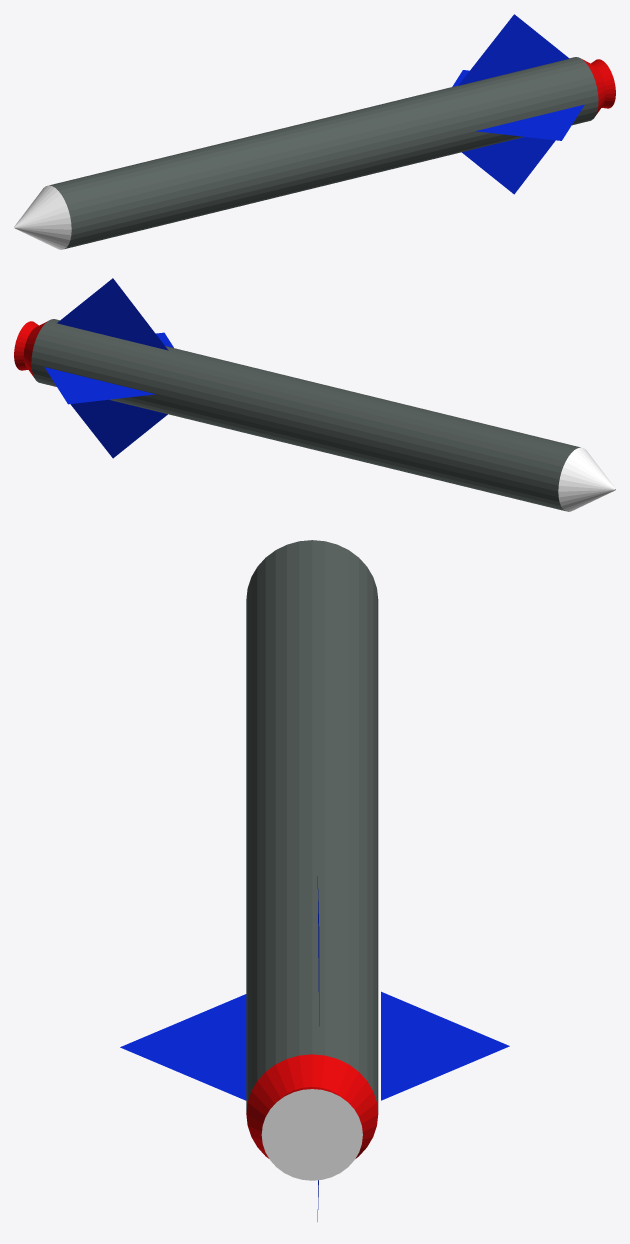
The model's file is missile.fbx.
The picture shows the model from 3 angles, top to bottom: view 1: azimuth 30°, elevation 25°; view 2: azimuth 150°, elevation 25°; view 3: azimuth 270°, elevation 25°; orthographic projection. The views are drawn at different scales.
Parts seen in each view (by area): view 1: Cylinder, Plane.002, Plane.003, Plane.001; view 2: Cylinder, Plane.002, Plane.003, Plane; view 3: Cylinder, Plane, Plane.001.
Part boxes in pixels (bbox=[...]): Cylinder: bbox=[14, 57, 615, 249]; Plane.002: bbox=[458, 14, 569, 85]; Plane.003: bbox=[462, 137, 555, 194]; Plane.001: bbox=[476, 104, 584, 140]; Cylinder: bbox=[14, 319, 615, 511]; Plane.002: bbox=[57, 278, 168, 350]; Plane.003: bbox=[70, 399, 167, 458]; Plane: bbox=[44, 367, 155, 404]; Cylinder: bbox=[246, 540, 378, 1180]; Plane: bbox=[381, 991, 509, 1100]; Plane.001: bbox=[120, 994, 246, 1100].
Size of the model in its own units: 264 by 77.46 by 75.9.
